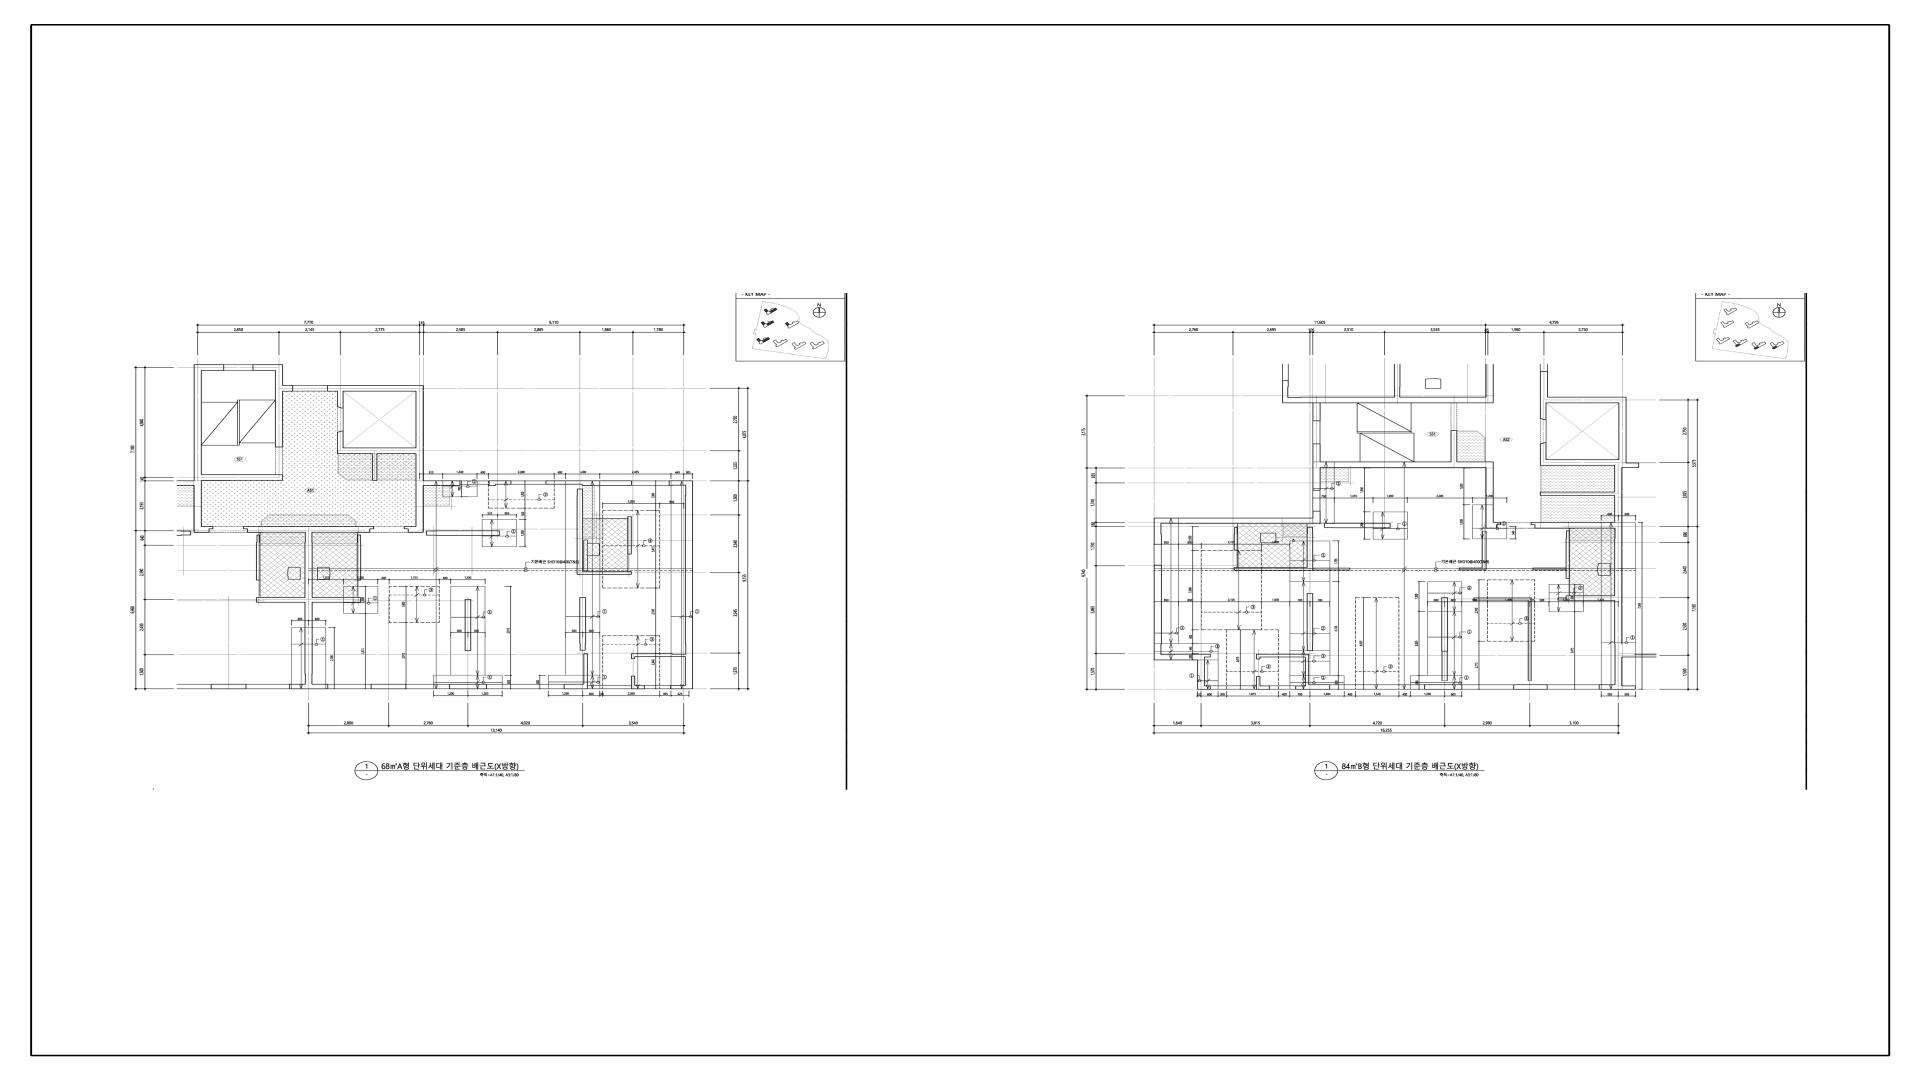wall: (1614, 468, 1622, 684), (686, 485, 694, 686), (1282, 397, 1494, 404), (194, 364, 202, 526), (305, 533, 313, 684), (1312, 462, 1494, 468), (415, 385, 423, 526), (243, 526, 375, 533), (1162, 518, 1312, 524), (276, 371, 284, 447), (327, 385, 415, 392), (1540, 397, 1627, 404), (1531, 522, 1614, 529), (202, 475, 284, 481), (576, 489, 583, 571), (338, 447, 415, 454), (1540, 459, 1614, 465), (546, 480, 632, 485), (1619, 404, 1627, 459), (1486, 468, 1494, 522), (426, 530, 500, 535), (1307, 593, 1313, 651), (1154, 518, 1162, 566), (1154, 654, 1211, 661), (1441, 597, 1448, 651), (1324, 524, 1391, 529), (464, 599, 471, 651), (580, 597, 587, 650), (1528, 600, 1532, 680), (1234, 567, 1313, 571), (1307, 527, 1313, 567), (313, 597, 361, 603), (1565, 530, 1571, 579), (1567, 596, 1614, 601), (1614, 459, 1639, 468), (1474, 597, 1532, 601), (576, 571, 632, 575), (1451, 430, 1457, 462), (1424, 684, 1462, 690), (253, 364, 284, 371), (1197, 661, 1205, 686), (450, 684, 487, 690), (1482, 531, 1487, 568), (1261, 654, 1309, 658), (1441, 651, 1448, 680), (371, 684, 406, 690), (1295, 684, 1331, 690), (1514, 684, 1548, 690), (357, 535, 361, 580), (1312, 468, 1320, 491), (1154, 633, 1162, 654), (669, 480, 694, 487), (202, 364, 224, 371), (423, 481, 460, 485), (372, 454, 377, 481), (628, 517, 632, 554), (1312, 404, 1320, 421), (1312, 444, 1320, 462), (636, 654, 686, 657), (194, 526, 214, 533), (404, 526, 423, 533), (305, 684, 328, 690), (564, 684, 588, 690), (584, 654, 588, 684), (1600, 684, 1622, 690), (338, 392, 344, 409), (338, 431, 344, 448), (1540, 404, 1547, 421), (1305, 658, 1309, 684), (1540, 443, 1547, 459), (1313, 568, 1350, 571), (1486, 522, 1501, 529), (670, 686, 694, 690), (1312, 512, 1320, 524), (1234, 527, 1238, 551), (489, 481, 512, 485), (284, 385, 293, 392), (632, 686, 645, 690), (1197, 686, 1211, 690), (1257, 686, 1270, 690), (1532, 568, 1565, 570), (1458, 568, 1487, 570), (632, 676, 636, 686), (1257, 676, 1261, 686), (1557, 597, 1567, 601), (632, 654, 636, 659), (1257, 654, 1261, 659)
